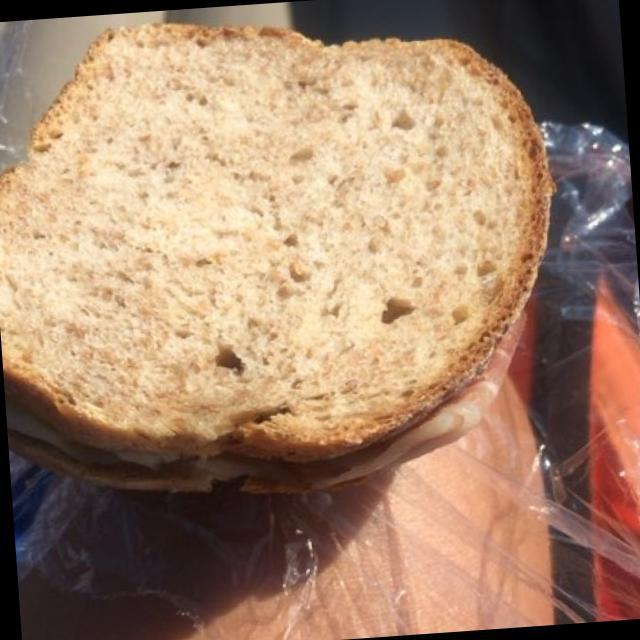Bread: (0, 0, 576, 487)
